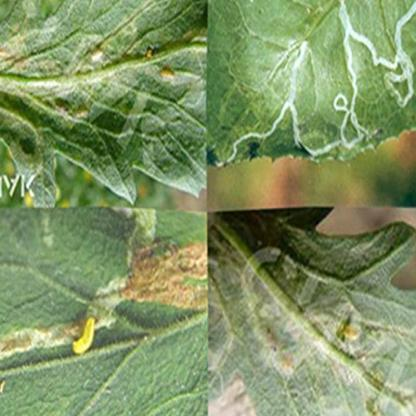whorl-maggot: (71, 310, 99, 361), (157, 63, 179, 84)
